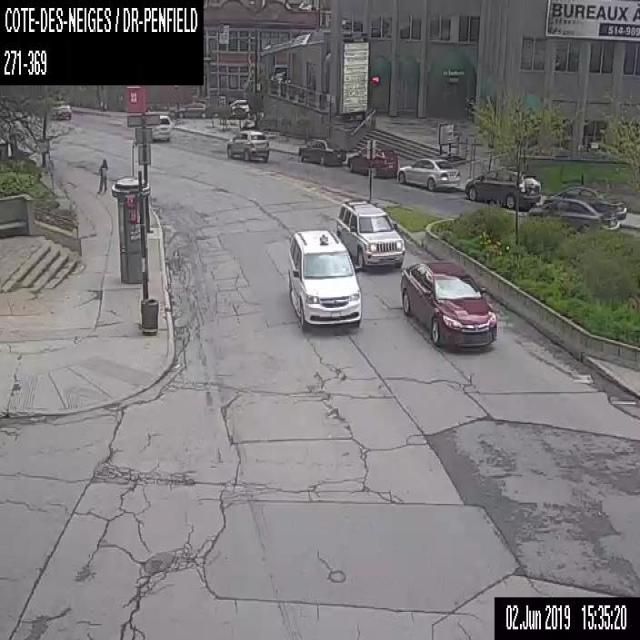pedestrian: (96, 159, 108, 193)
vehicle: (400, 260, 496, 349), (288, 228, 362, 329), (336, 198, 404, 269), (527, 194, 620, 232), (464, 166, 540, 210), (551, 183, 626, 224), (396, 157, 459, 191), (346, 145, 398, 176), (298, 136, 345, 166), (225, 128, 269, 160), (144, 112, 174, 140), (174, 99, 208, 117), (226, 99, 254, 117), (51, 98, 72, 118)
